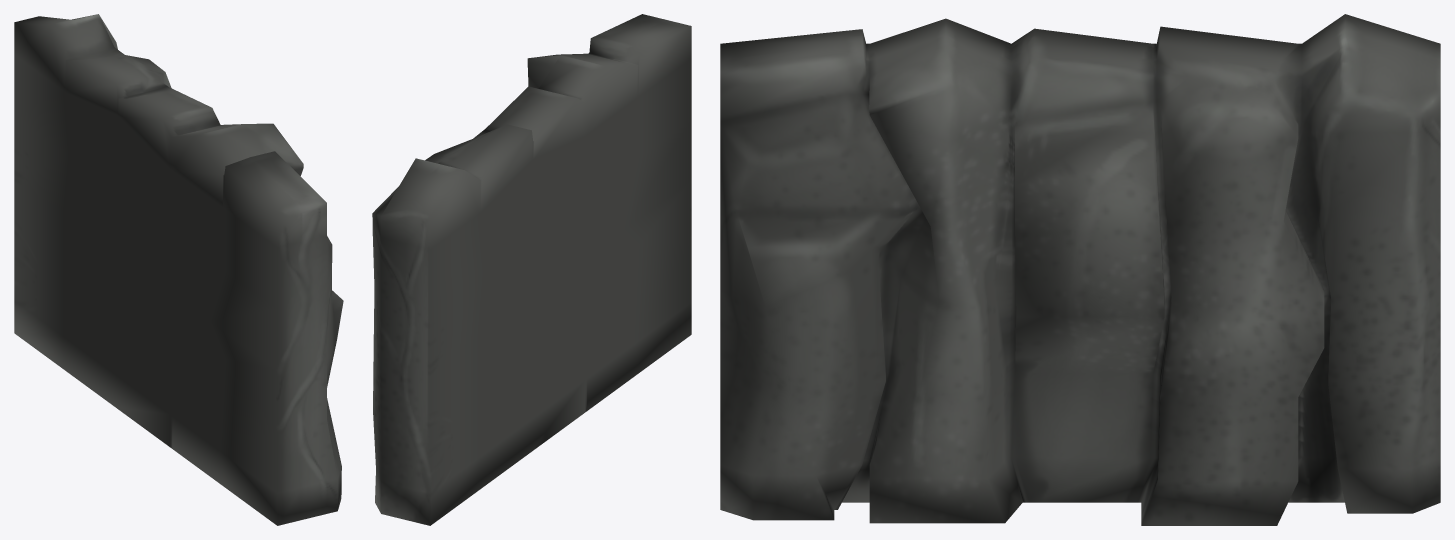
File: R4YL_PROP_ground_extrem.FBX
3 renders of one model, left to right at view 1: azimuth 30°, elevation 25°; view 2: azimuth 150°, elevation 25°; view 3: azimuth 270°, elevation 25°, orthographic. The views are drawn at different scales.
Visible parts, largest first — view 1: R4YL_PROP_ground_extrem; view 2: R4YL_PROP_ground_extrem; view 3: R4YL_PROP_ground_extrem.
Part boxes in pixels (x1,y1,x2,y2): R4YL_PROP_ground_extrem: [14, 14, 343, 525]; R4YL_PROP_ground_extrem: [372, 14, 691, 525]; R4YL_PROP_ground_extrem: [720, 14, 1440, 525].
Bounding box in the file's own units: 0.9093 × 3.21 × 4.6.
1 material, 1 textured.
